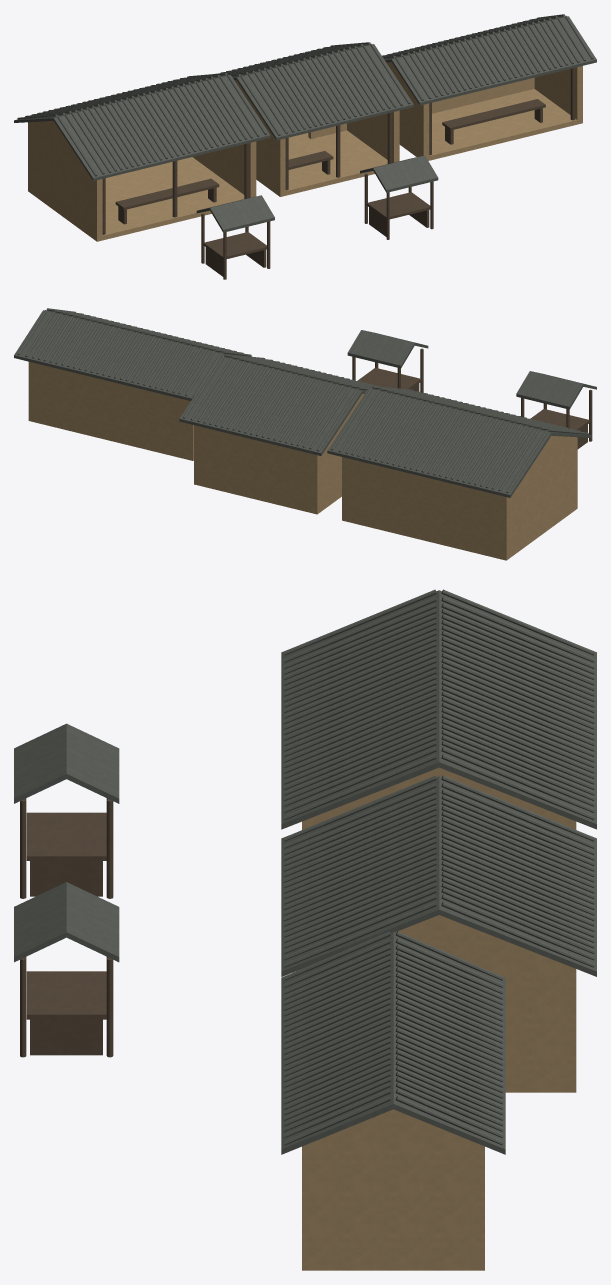
The picture shows the model from 3 angles, top to bottom: view 1: azimuth 30°, elevation 25°; view 2: azimuth 150°, elevation 25°; view 3: azimuth 270°, elevation 25°; orthographic projection. The views are drawn at different scales.
Parts seen in each view (by area): view 1: assembled__LY_P01_tile__PBR, assembled__LY_P01_earth__PBR, assembled__LY_P01_timber__PBR; view 2: assembled__LY_P01_tile__PBR, assembled__LY_P01_earth__PBR, assembled__LY_P01_timber__PBR; view 3: assembled__LY_P01_tile__PBR, assembled__LY_P01_earth__PBR, assembled__LY_P01_timber__PBR.
Boxes of the visible parts, x1,y1,x2,y2 form: assembled__LY_P01_tile__PBR: [14, 14, 596, 232]; assembled__LY_P01_earth__PBR: [28, 62, 582, 241]; assembled__LY_P01_timber__PBR: [102, 68, 575, 279]; assembled__LY_P01_tile__PBR: [14, 308, 596, 497]; assembled__LY_P01_earth__PBR: [28, 361, 577, 560]; assembled__LY_P01_timber__PBR: [352, 348, 592, 449]; assembled__LY_P01_tile__PBR: [14, 589, 596, 1154]; assembled__LY_P01_earth__PBR: [302, 767, 576, 1270]; assembled__LY_P01_timber__PBR: [20, 798, 113, 1057].
Bounding box in the file's own units: 25.3 × 4.93 × 12.75.
Materials: 3 (3 with a texture image).
